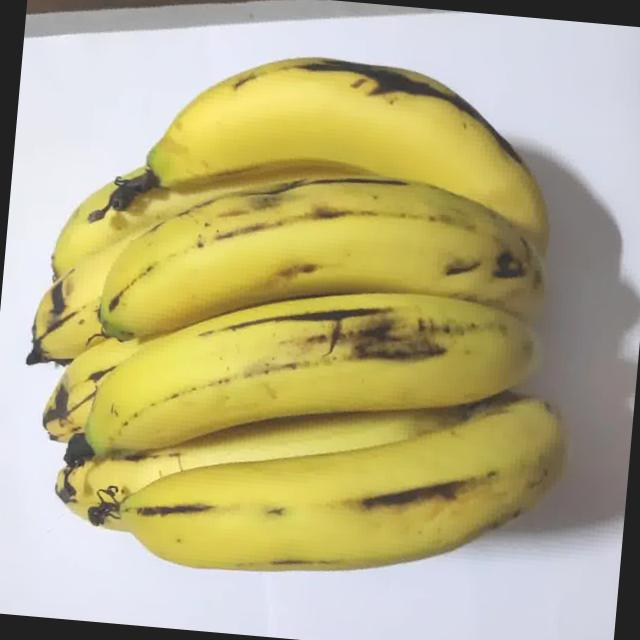banana_pacche: (0, 33, 591, 616)
